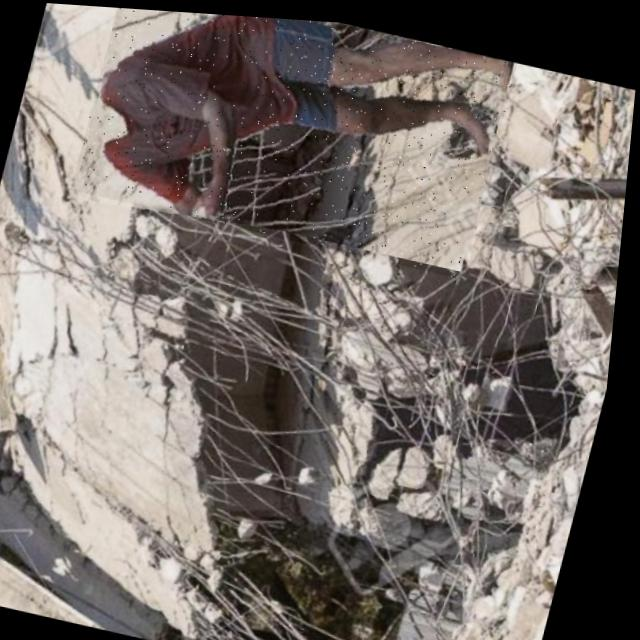Person in Rubble: (69, 5, 520, 273)
